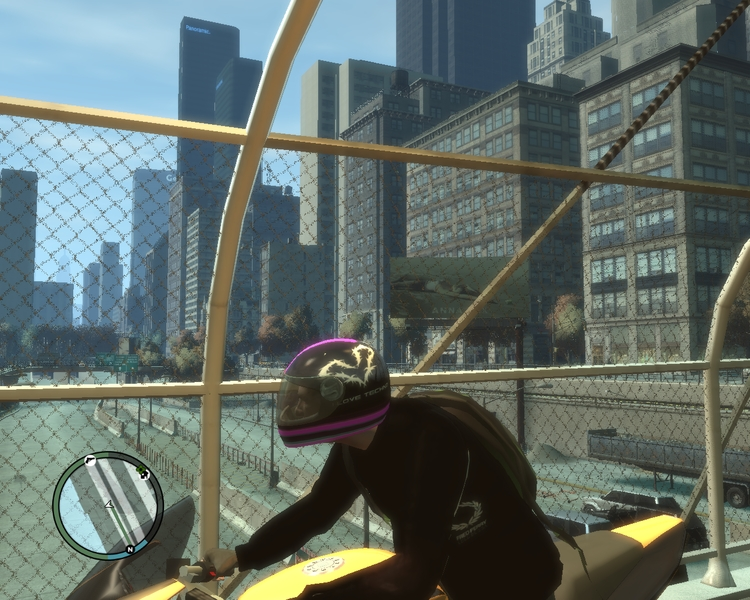helmet: (272, 346, 405, 423)
